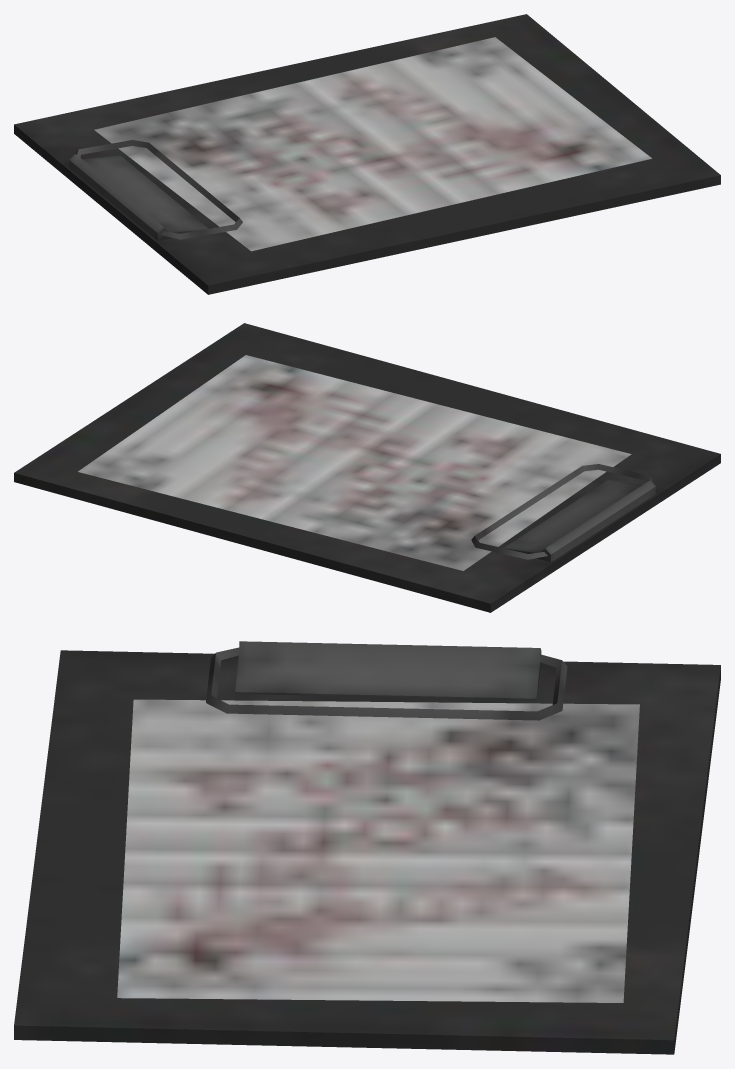
File: PaperBoard.FBX
3 renders of one model, top to bottom at view 1: azimuth 30°, elevation 25°; view 2: azimuth 150°, elevation 25°; view 3: azimuth 270°, elevation 25°, orthographic. The views are drawn at different scales.
Parts seen in each view (by area): view 1: PaperBoard; view 2: PaperBoard; view 3: PaperBoard.
Part boxes in pixels (box(x1,y1,x2,y2)): PaperBoard: box(14, 14, 720, 294); PaperBoard: box(14, 323, 720, 612); PaperBoard: box(14, 641, 720, 1054).
Bounding box in the file's own units: 31.72 × 1.28 × 24.3.
